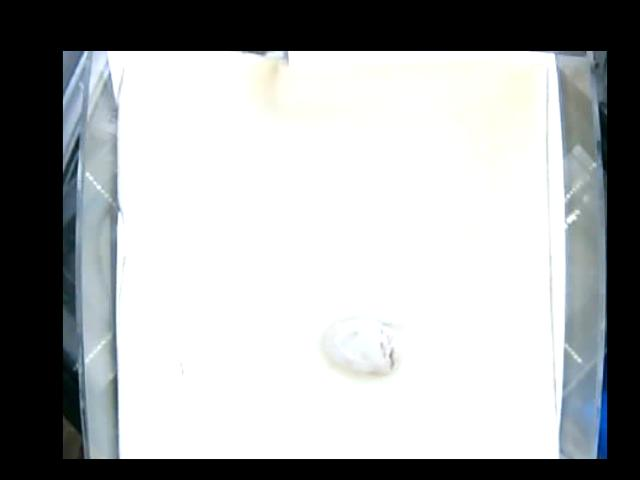Pebble: (320, 315, 399, 377)
